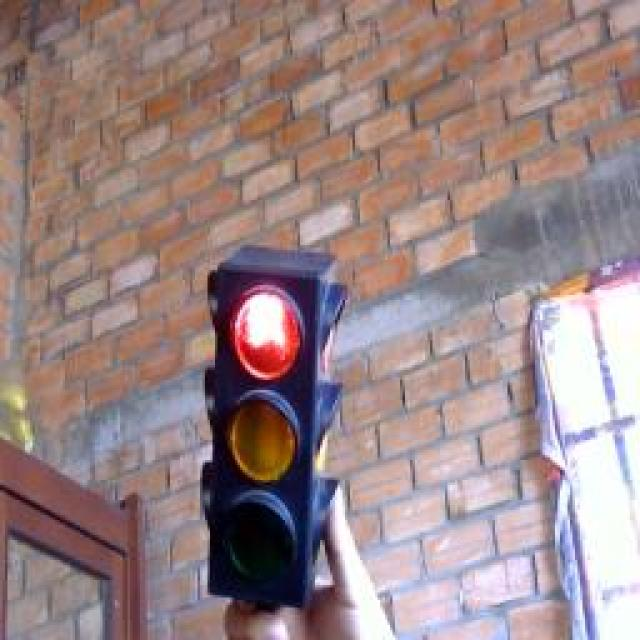-: (220, 269, 315, 389)
